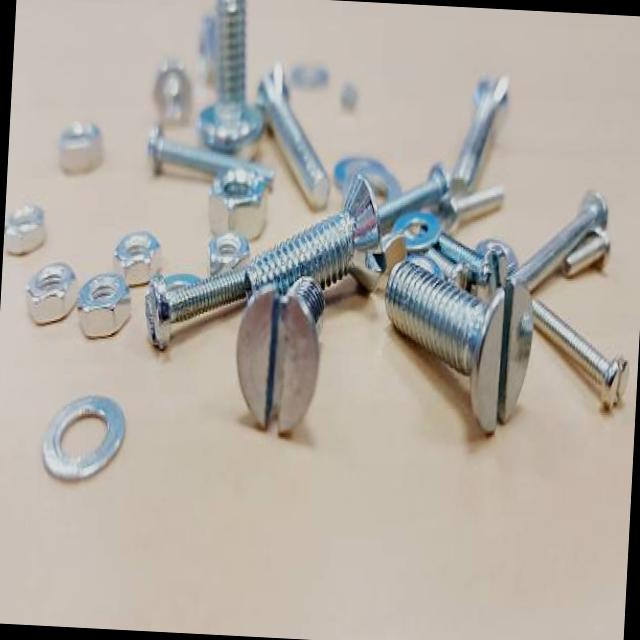Slotted: (228, 284, 329, 448), (458, 291, 548, 444), (600, 352, 634, 422)
